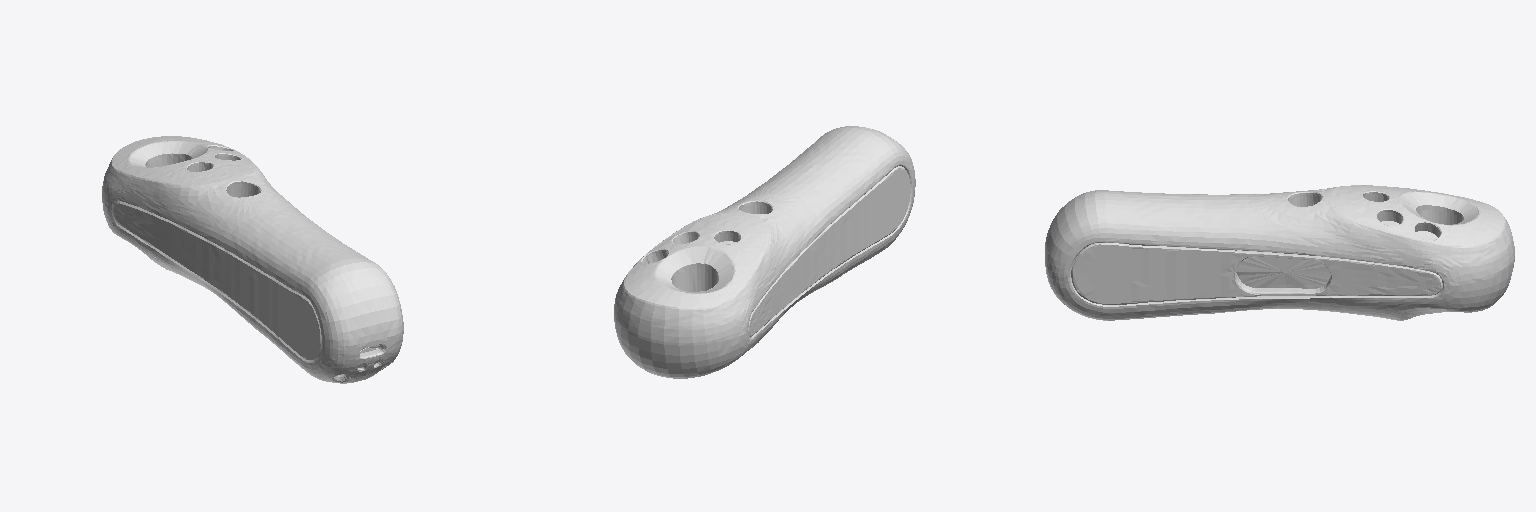
File: left_body.obj
3 renders of one model, left to right at view 1: azimuth 30°, elevation 25°; view 2: azimuth 150°, elevation 25°; view 3: azimuth 270°, elevation 25°, orthographic.
Visible parts, largest first — view 1: left_body; view 2: left_body; view 3: left_body.
Part boxes in pixels (bbox=[...]): left_body: bbox=[102, 136, 403, 383]; left_body: bbox=[614, 126, 915, 378]; left_body: bbox=[1045, 185, 1514, 320].
Bounding box in the file's own units: 0.0468 × 0.0423 × 0.1512.